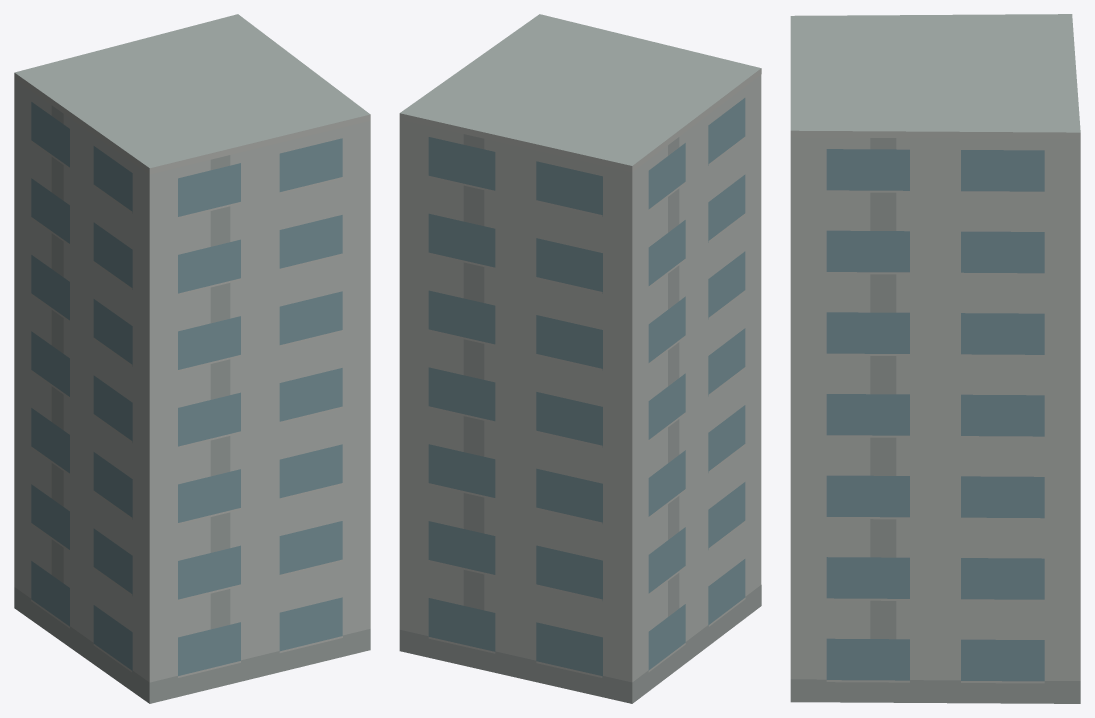
The model's file is survey-upis-32587074.glb.
3 views of the same model, side by side, from view 1: azimuth 30°, elevation 25°; view 2: azimuth 150°, elevation 25°; view 3: azimuth 270°, elevation 25° (orthographic). The views are drawn at different scales.
Visible parts, largest first — view 1: survey-upis-32587074.tmp; view 2: survey-upis-32587074.tmp; view 3: survey-upis-32587074.tmp.
Boxes of the visible parts, bbox=[...] form: survey-upis-32587074.tmp: bbox=[14, 14, 370, 703]; survey-upis-32587074.tmp: bbox=[399, 14, 761, 703]; survey-upis-32587074.tmp: bbox=[790, 14, 1080, 703].
Bounding box in the file's own units: 9.24 × 20.75 × 9.57.
